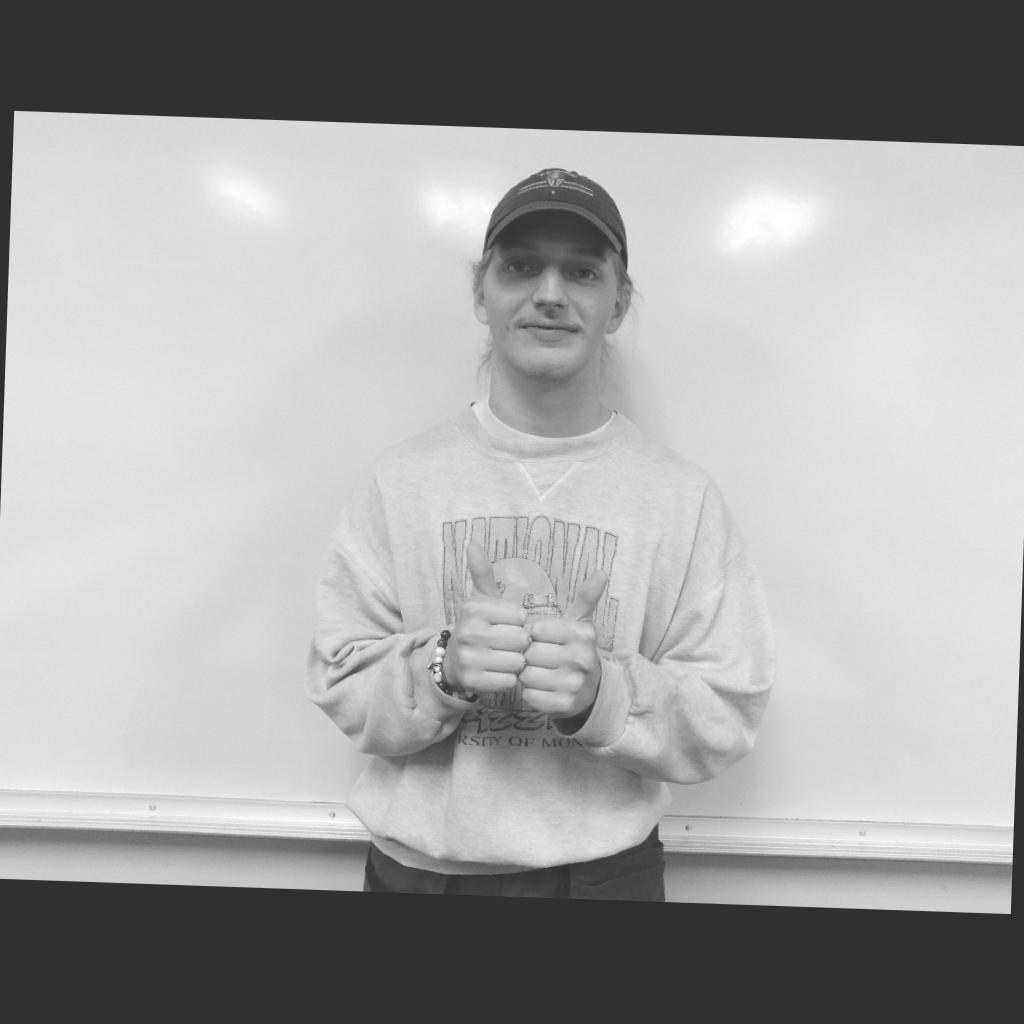how: (448, 541, 610, 720)
